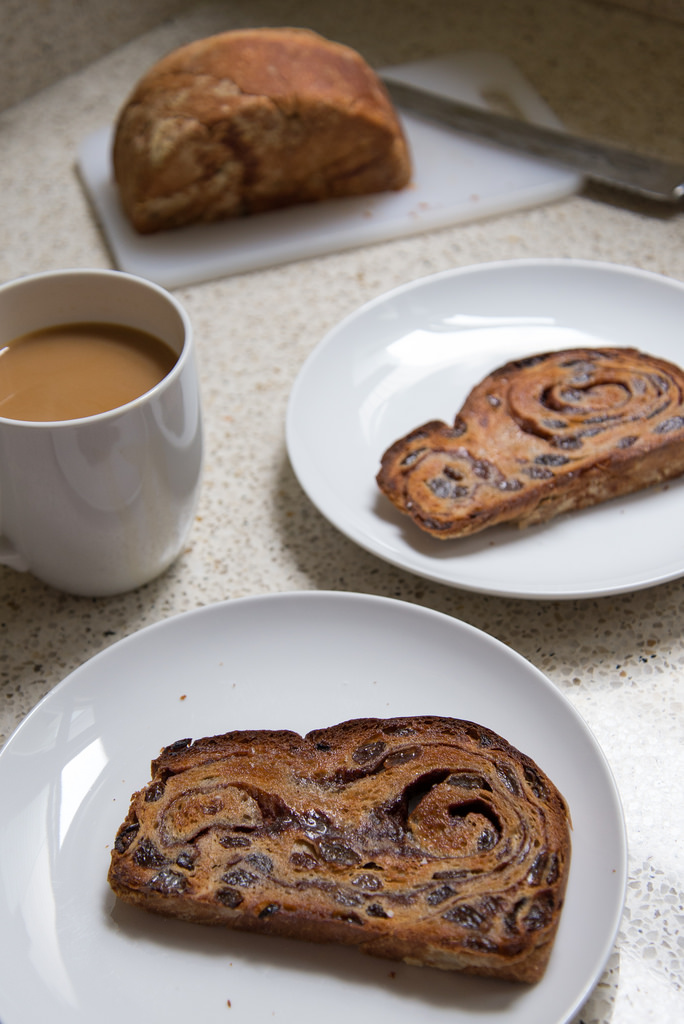slice of bread: (116, 716, 594, 969), (375, 347, 684, 538)
